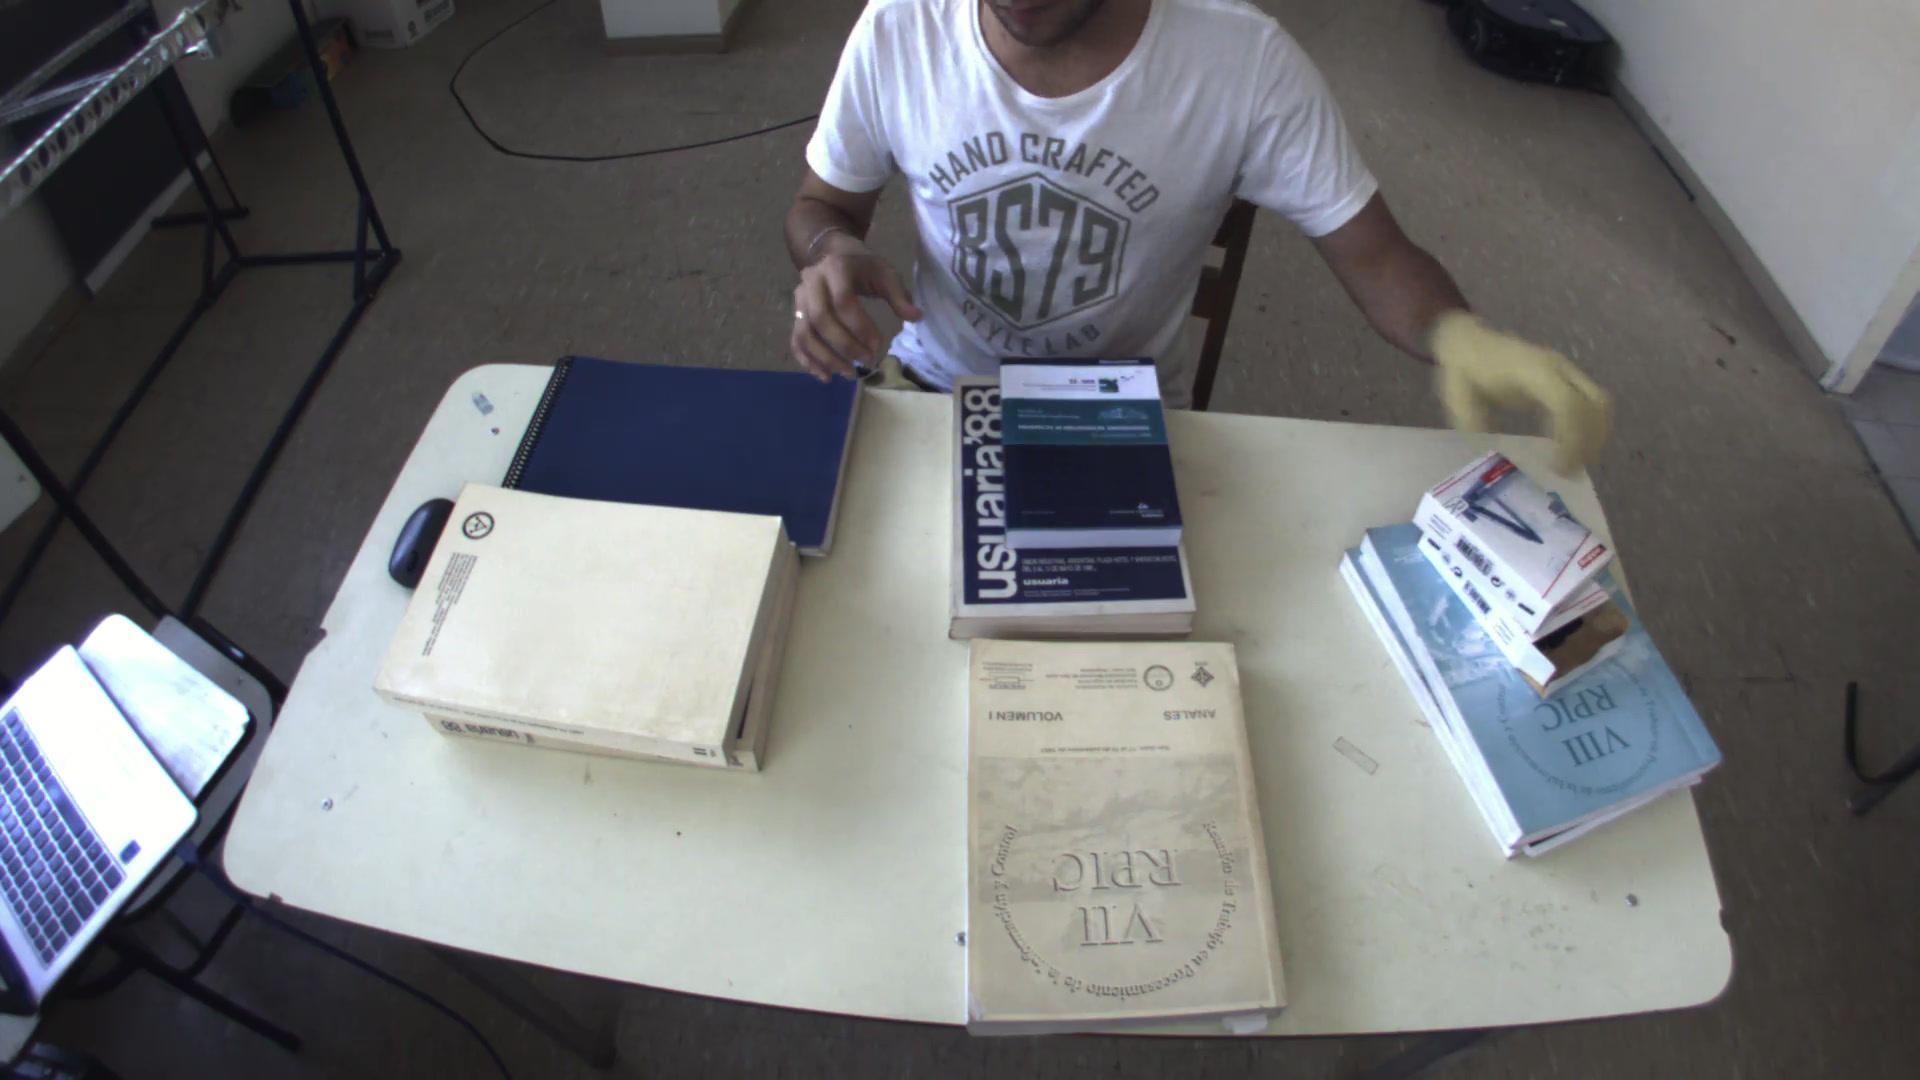hand: (1418, 299, 1618, 491), (774, 231, 926, 385)
